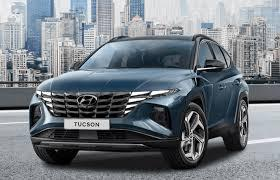hyundai: (75, 92, 99, 110)
